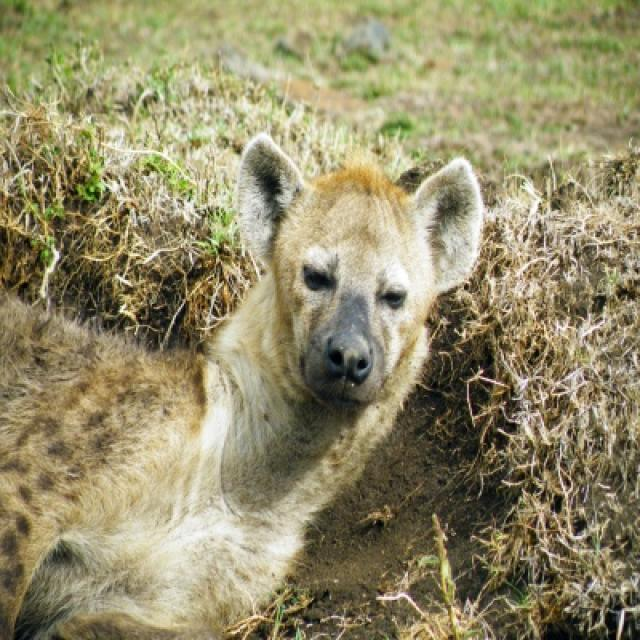hyena: (0, 134, 486, 638)
